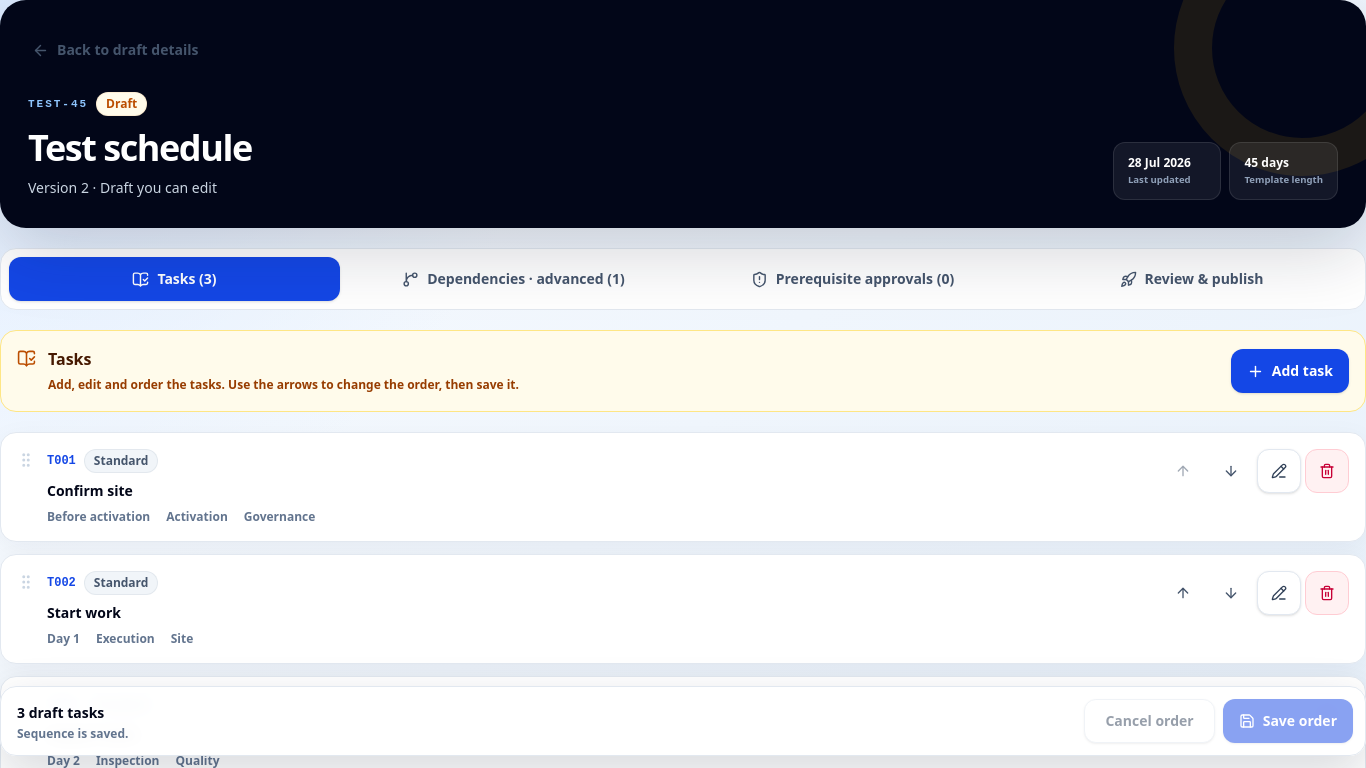
draft dependency authoring › renders backend template_dependency_exists errors in plain words without repair
Expected: the element with test id "draft-task-T001" is shown, [0, 432, 1365, 542]
Click the button "Dependencies · advanced (1)". click: (514, 279)
box: [348, 257, 679, 301]
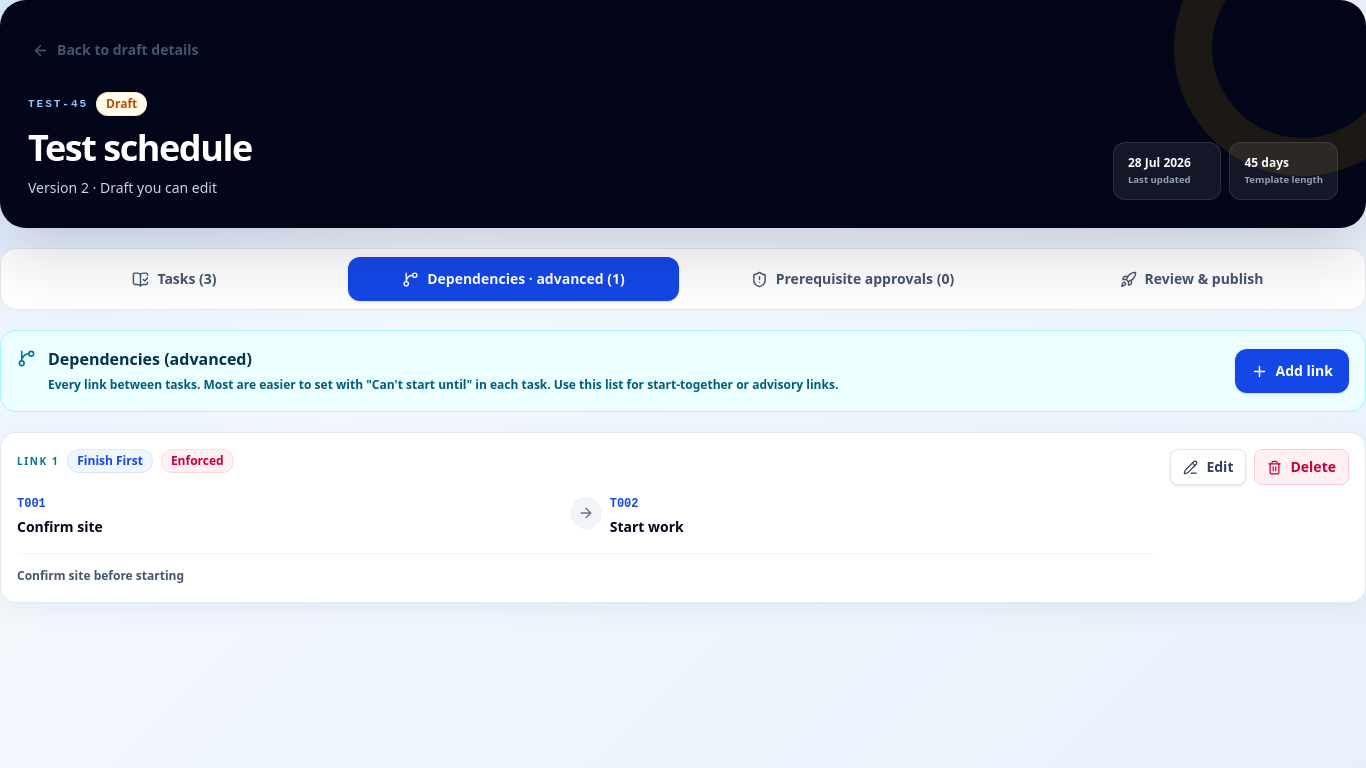
Click the button "Add link". click: (1292, 371)
box: [1234, 349, 1349, 393]
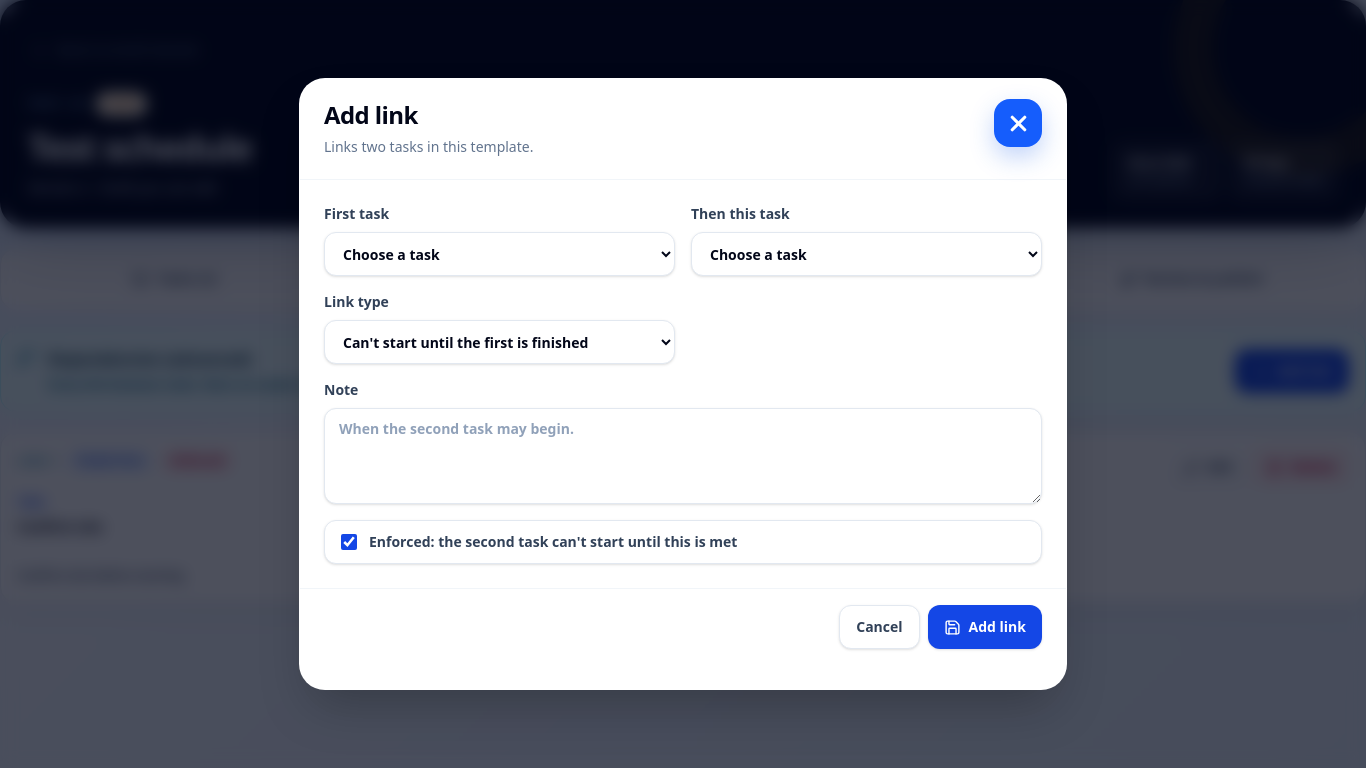
Select "T002 — Start work" in the dropdown labelled "First task". click: (500, 254)
box: [324, 232, 675, 276]
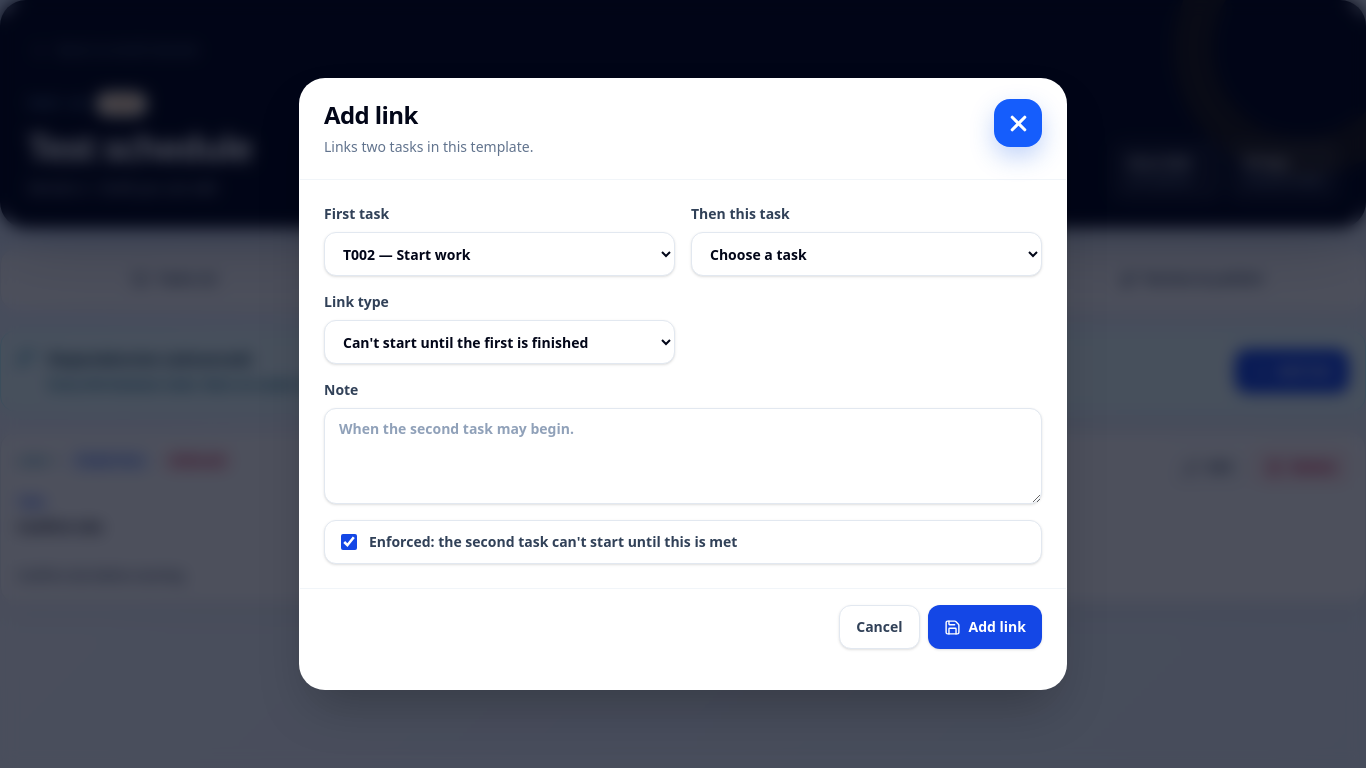
Select "T003 — Inspect work" in the dropdown labelled "Then this task". click: (866, 254)
box: [691, 232, 1042, 276]
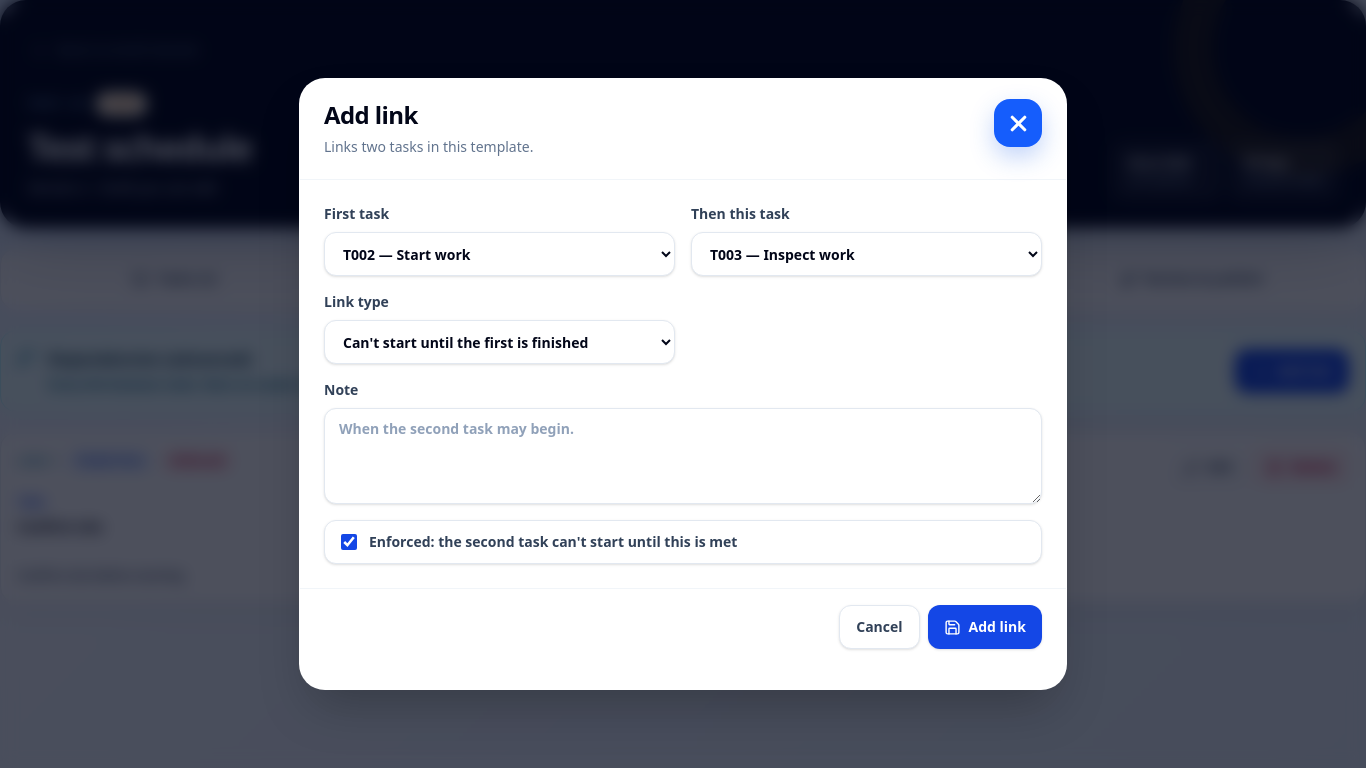
Type "Test relationship" into the text box labelled "Note". click: (683, 456)
box: [324, 408, 1042, 504]
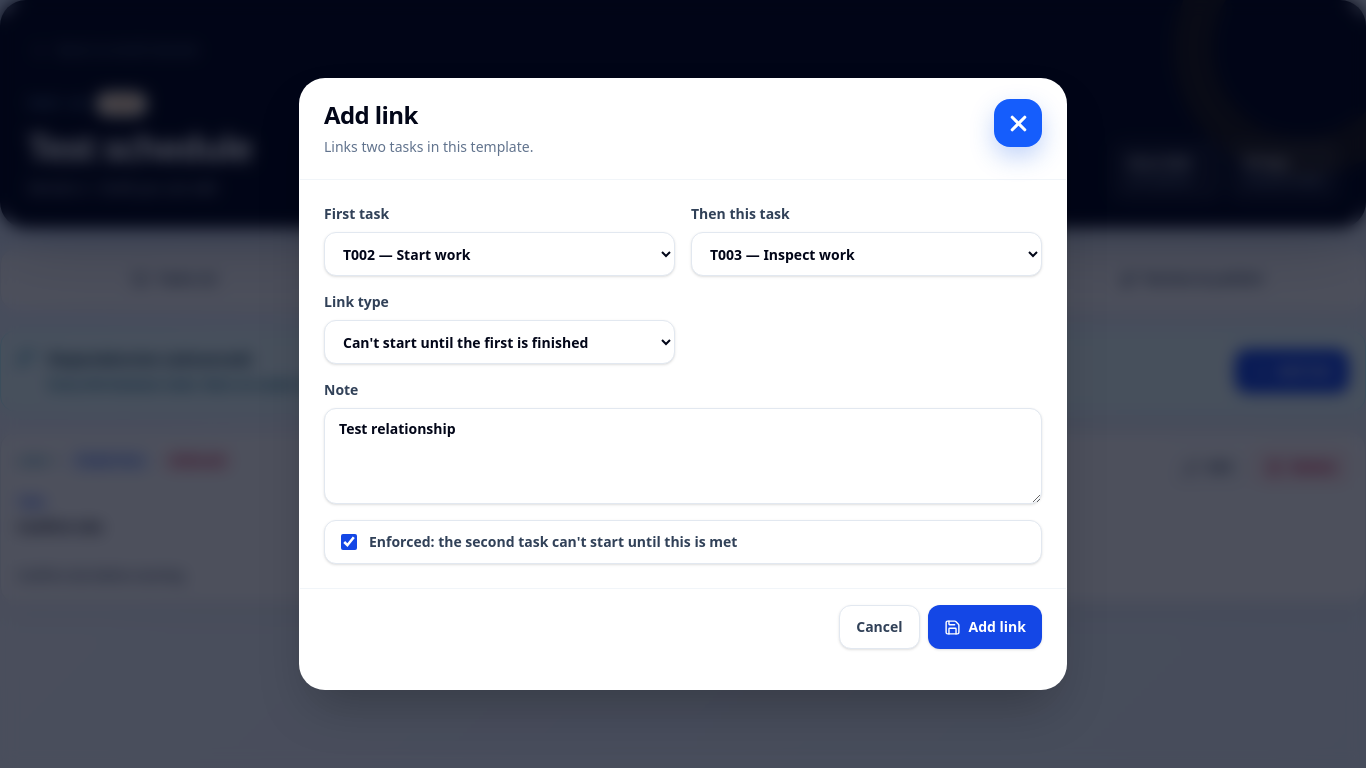
Click the button "Add link". click: (985, 627)
box: [928, 605, 1042, 649]
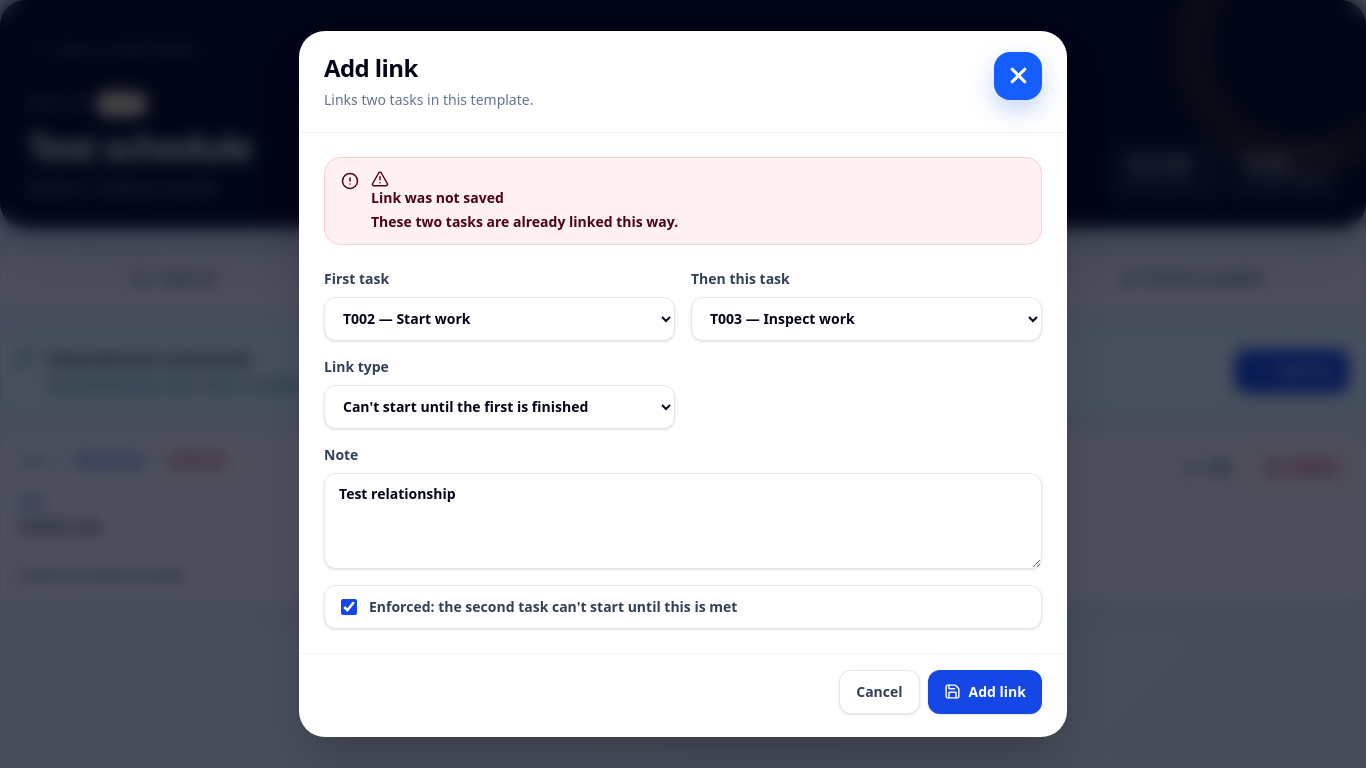
Expected: the text "These two tasks are already linked this way." is shown, [371, 212, 678, 231]
